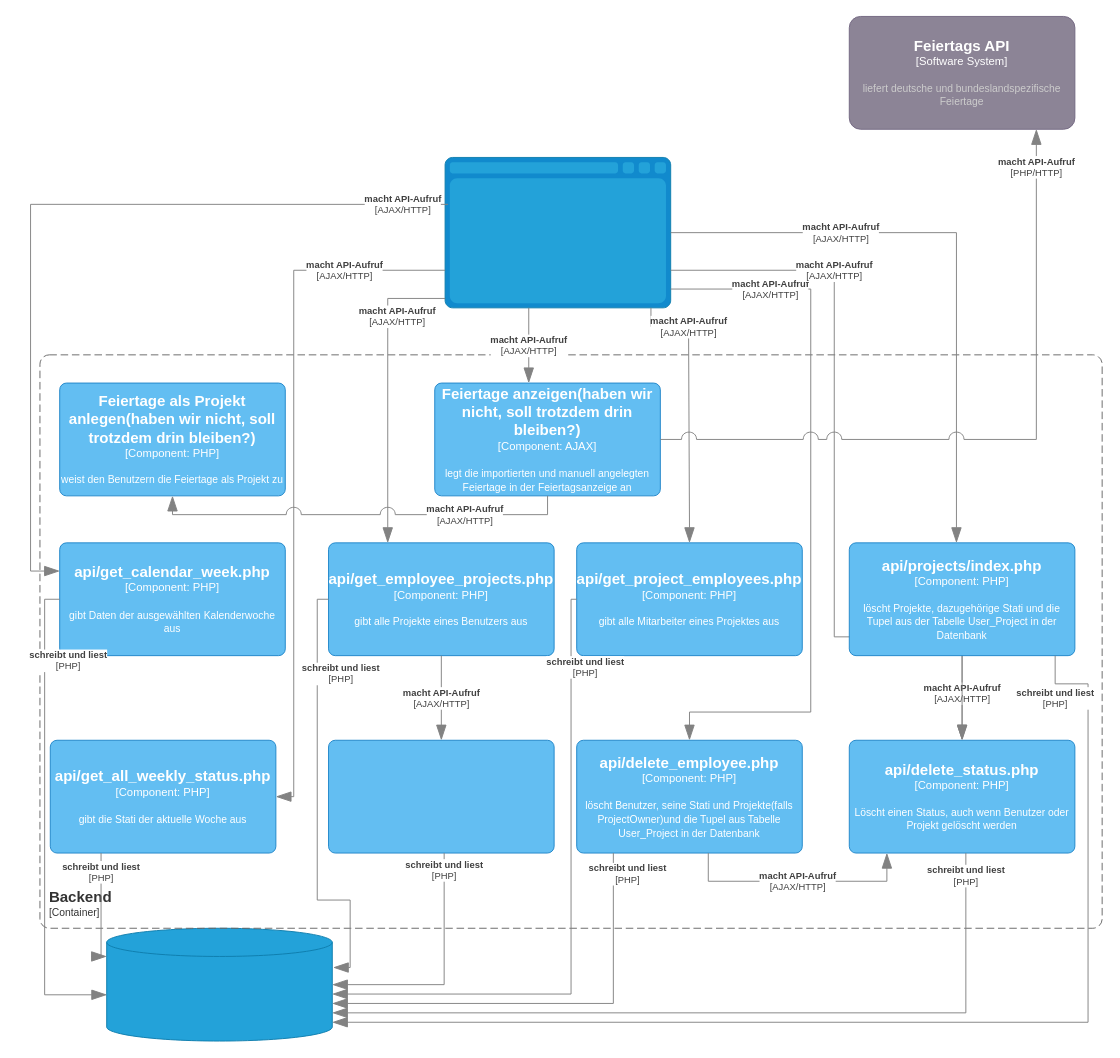
Some shapes in this 1120 by 1058 pixel diagram are drawn without their labels. Here are the shapes that lost their labels. From the top down, the centre of each, then its label:
At [557,232]: "Webbrowser [Container: JavaScript] stellt User-Interface zur Verfügung".
At [441,796]: "api/add_status.php [Component: PHP] legt Stati in der Datenbank an".
At [219,984]: "Datenbank [Container: Maria DB] Speichert Datenbankobjekte".
